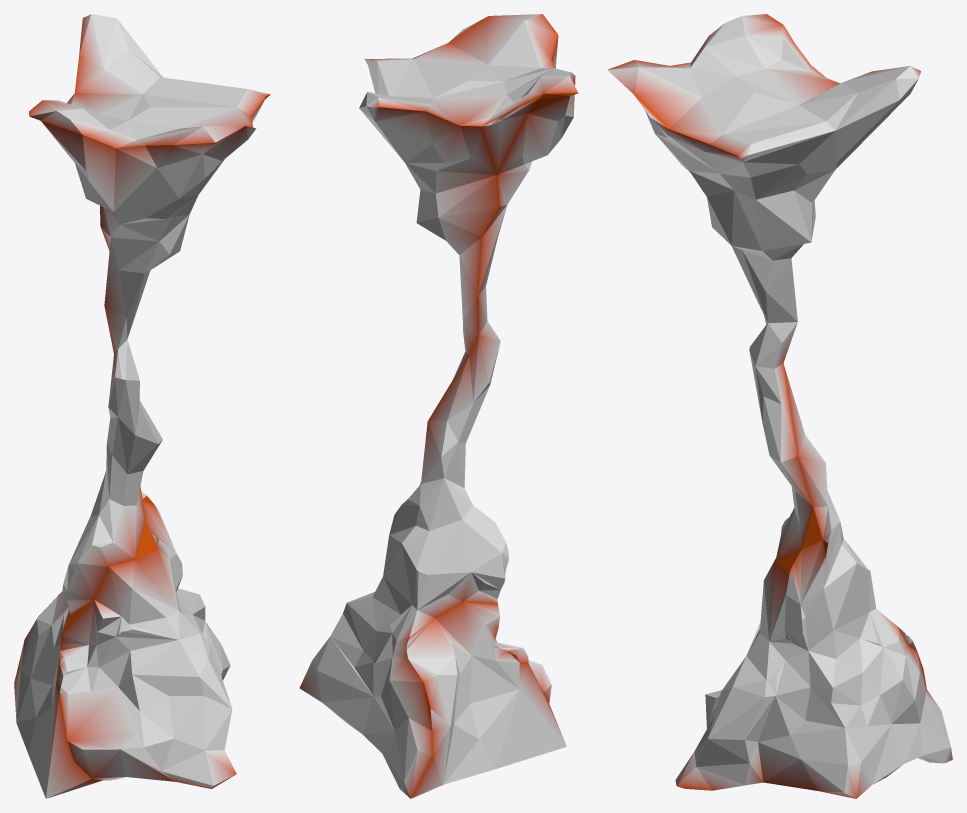
Rendered from MOD_Pillar.fbx.
3 renders of one model, left to right at view 1: azimuth 30°, elevation 25°; view 2: azimuth 150°, elevation 25°; view 3: azimuth 270°, elevation 25°, orthographic. The views are drawn at different scales.
Visible parts, largest first — view 1: Pillar_Placeholder_SeamsColor; view 2: Pillar_Placeholder_SeamsColor; view 3: Pillar_Placeholder_SeamsColor.
Part boxes in pixels (x1,y1,x2,y2): Pillar_Placeholder_SeamsColor: (14,14,270,798); Pillar_Placeholder_SeamsColor: (299,14,578,798); Pillar_Placeholder_SeamsColor: (607,14,952,798).
Bounding box in the file's own units: 46.98 × 130 × 56.17.
